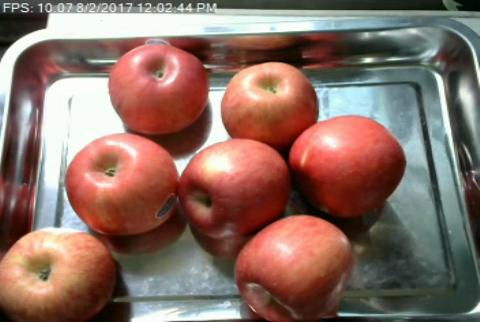apple: (290, 115, 407, 218), (236, 216, 350, 320), (66, 132, 177, 235), (0, 226, 115, 322), (181, 137, 287, 235), (108, 43, 208, 134), (222, 62, 319, 144)
